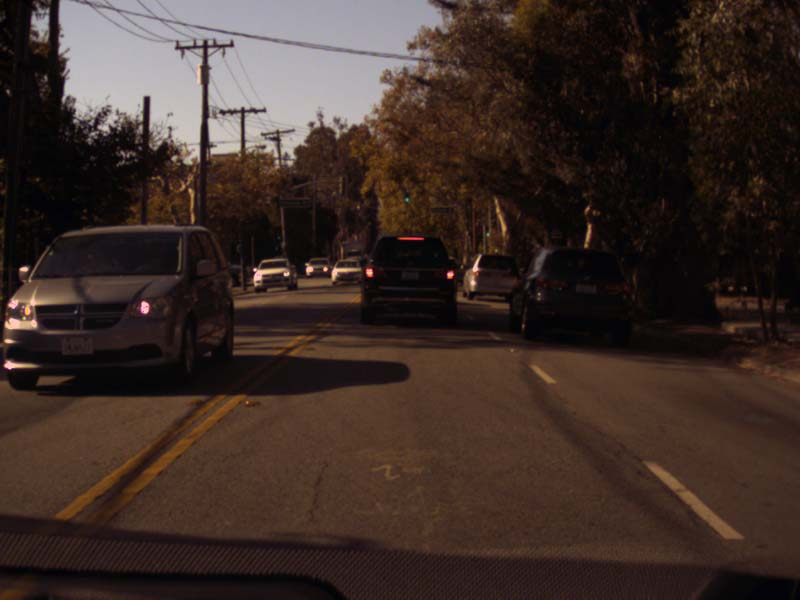Green: (275, 227, 281, 240), (404, 191, 410, 202)
